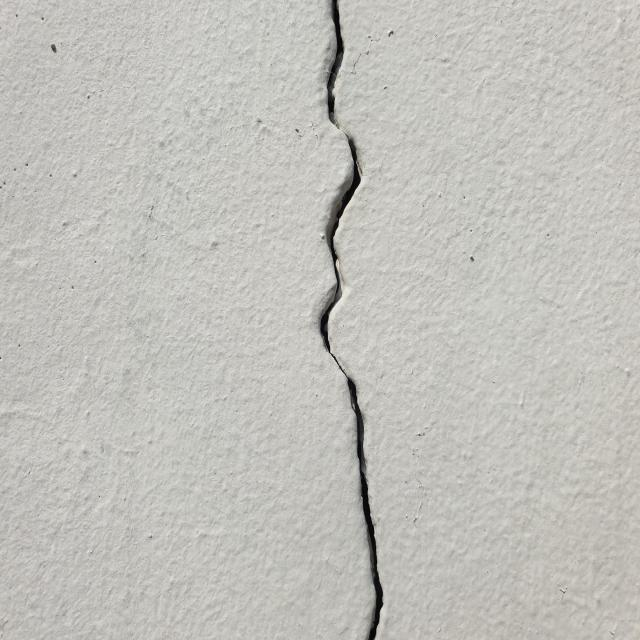SurfaceCrack: (268, 0, 424, 640)
